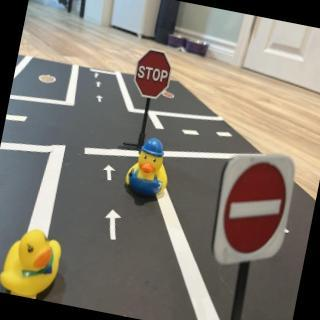duck_regular: (1, 224, 65, 302)
duck_specialty: (123, 136, 176, 205)
road_oneway: (100, 204, 126, 245), (100, 161, 118, 186), (95, 92, 107, 107), (94, 81, 104, 92), (94, 70, 102, 80)
sign_noentry: (205, 145, 302, 278)
sign_stop: (131, 49, 175, 105)
